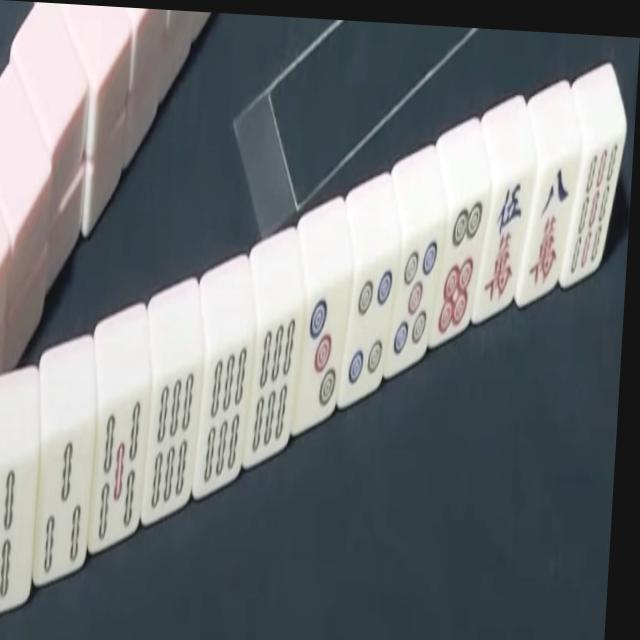m5: (478, 174, 522, 310)
m8: (528, 158, 572, 301)
s2: (0, 453, 47, 593)
s3: (28, 436, 98, 588)
s5: (88, 390, 148, 552)
s6: (192, 343, 254, 498), (144, 366, 200, 523), (247, 313, 307, 458)
s9: (562, 134, 624, 283)
t3: (298, 282, 357, 419)
t4: (341, 258, 401, 398)
t5: (393, 217, 439, 368)
t6: (433, 185, 477, 335)
